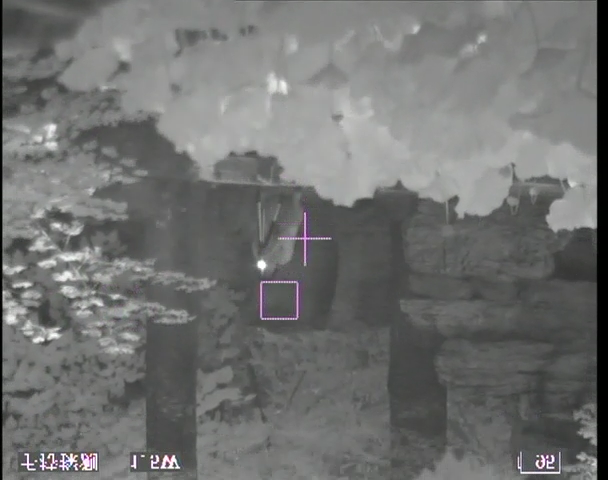my: (255, 259, 269, 272)
